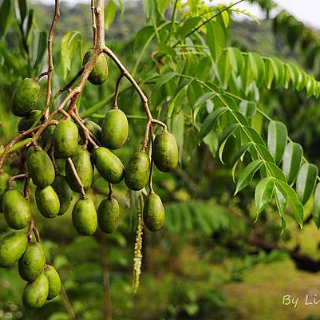coc: (153, 130, 180, 172), (2, 190, 31, 229), (93, 147, 123, 184), (101, 110, 129, 148), (125, 152, 151, 192), (11, 77, 38, 115), (27, 150, 55, 186), (72, 197, 97, 236), (19, 242, 44, 281), (53, 120, 77, 158), (144, 193, 165, 231), (98, 197, 120, 233)
